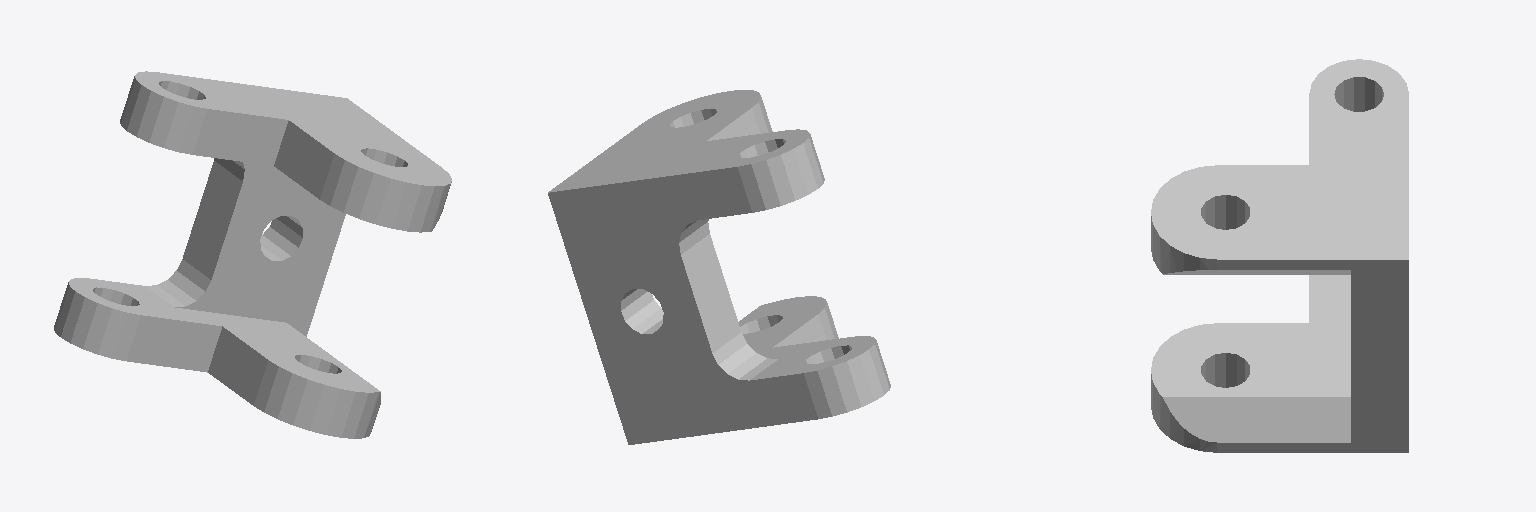
The model's file is right_thumb_1_visuals.obj.
3 views of the same model, side by side, from view 1: azimuth 30°, elevation 25°; view 2: azimuth 150°, elevation 25°; view 3: azimuth 270°, elevation 25° (orthographic).
Size of the model in its own units: 0.0216 by 0.0212 by 0.0155.